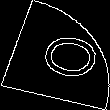O_W: (17, 27, 93, 83)
